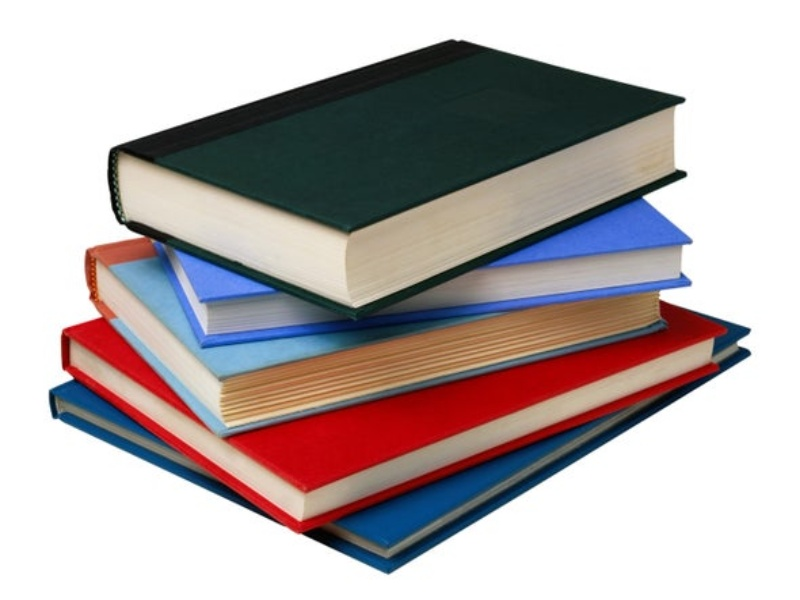Books_Reuse: (33, 31, 772, 581)
